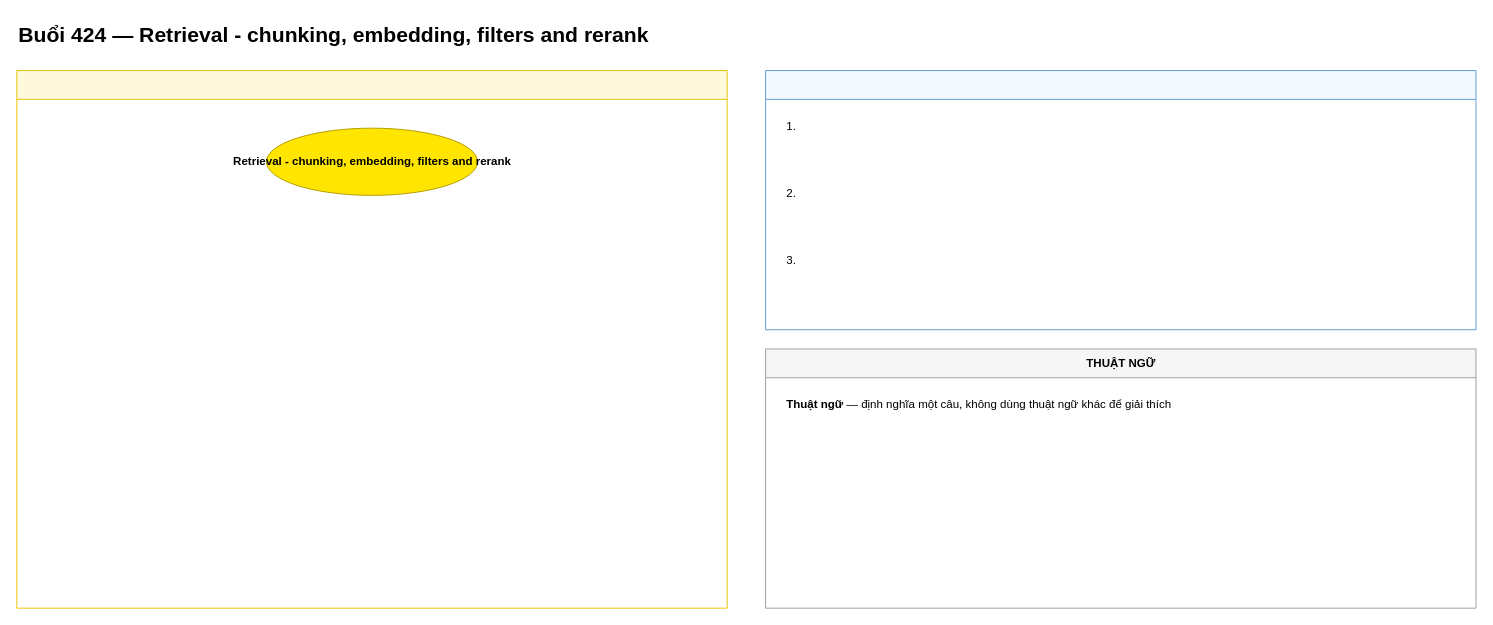
The diagram is 1493 pixels wide and 625 high, and some of its shapes have lost their labels. Here are the shapes that lost their labels. From the top down, the box of each, then its label:
(765, 70, 1476, 330): KEY TAKEAWAY — ba điều phải nhớ
(16, 70, 727, 608): MINDMAP
